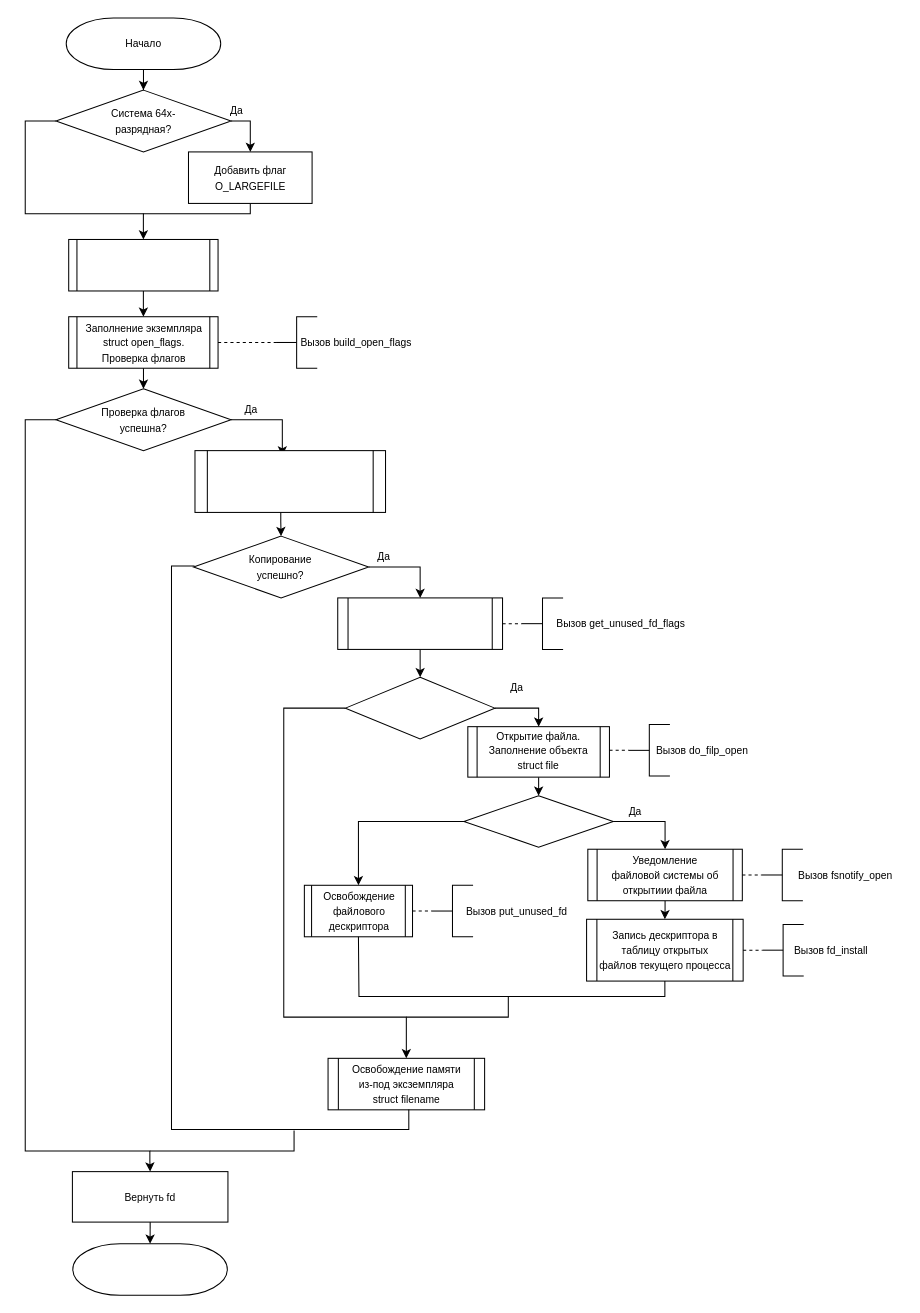
The diagram is 920 pixels wide and 1313 high, and some of its shapes have lost their labels. Each missing label, with the centre of its shape:
"Вызов build_open_how()" goes at pixel 143 264.
"Конец" goes at pixel 149 1269.
"Копирование имени файла из пространства пользователя в пространство ядра" goes at pixel 290 481.
"Поиск свободного файлового дескриптора" goes at pixel 420 623.
"Файл открыт?" goes at pixel 538 821.
"Файловый дескриптор получен?" goes at pixel 419 707.
